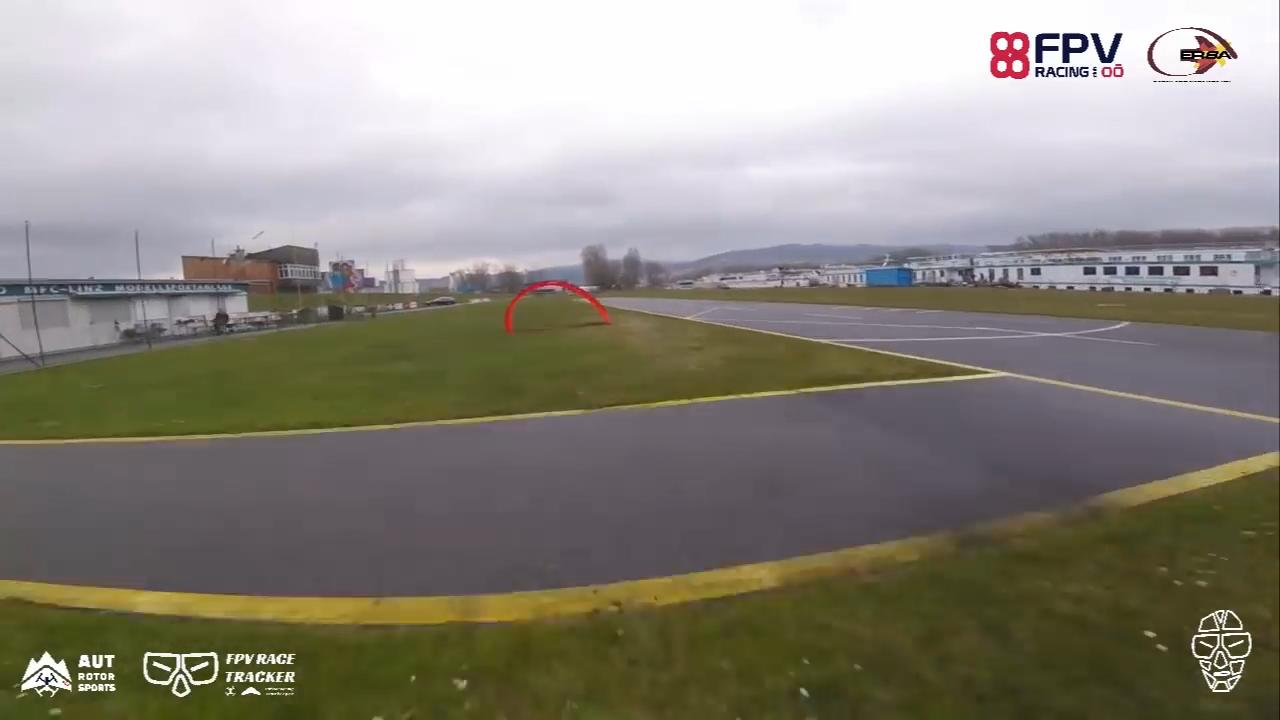gate: (504, 278, 616, 335)
